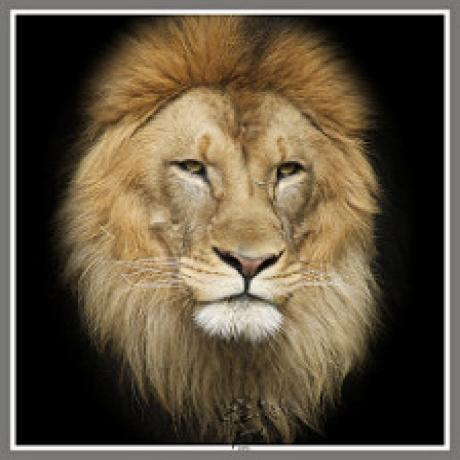Lion: (55, 17, 383, 442)
